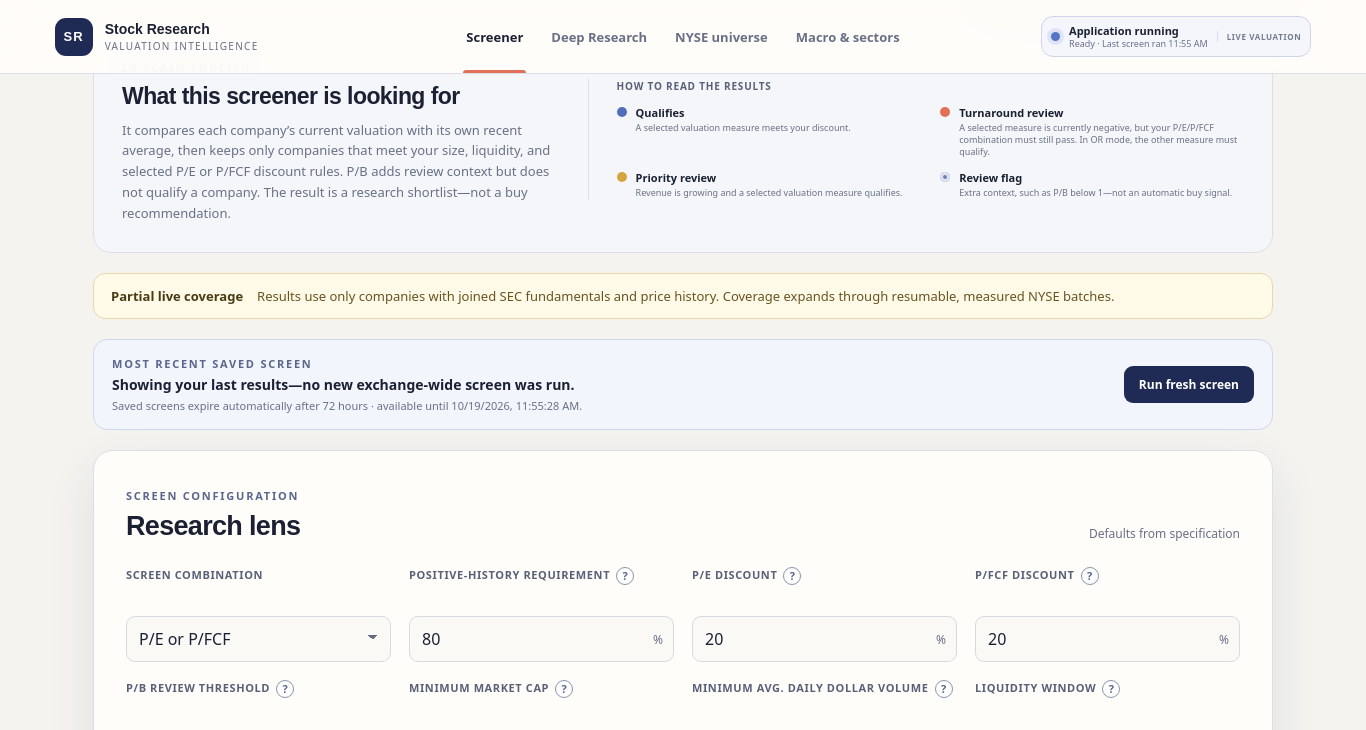
Test: stock research dashboard › restores the latest saved screen without rerunning and can explicitly refresh it
The width and height of the screenshot is (1366, 730).
(page scrolled)
Expected: the text "Showing your last results—no new exchange-wide screen was run." is shown, left=112, top=375, right=582, bottom=394
Click the button "Run fresh screen" at coordinates (1189, 384), box left=1124, top=366, right=1254, bottom=403
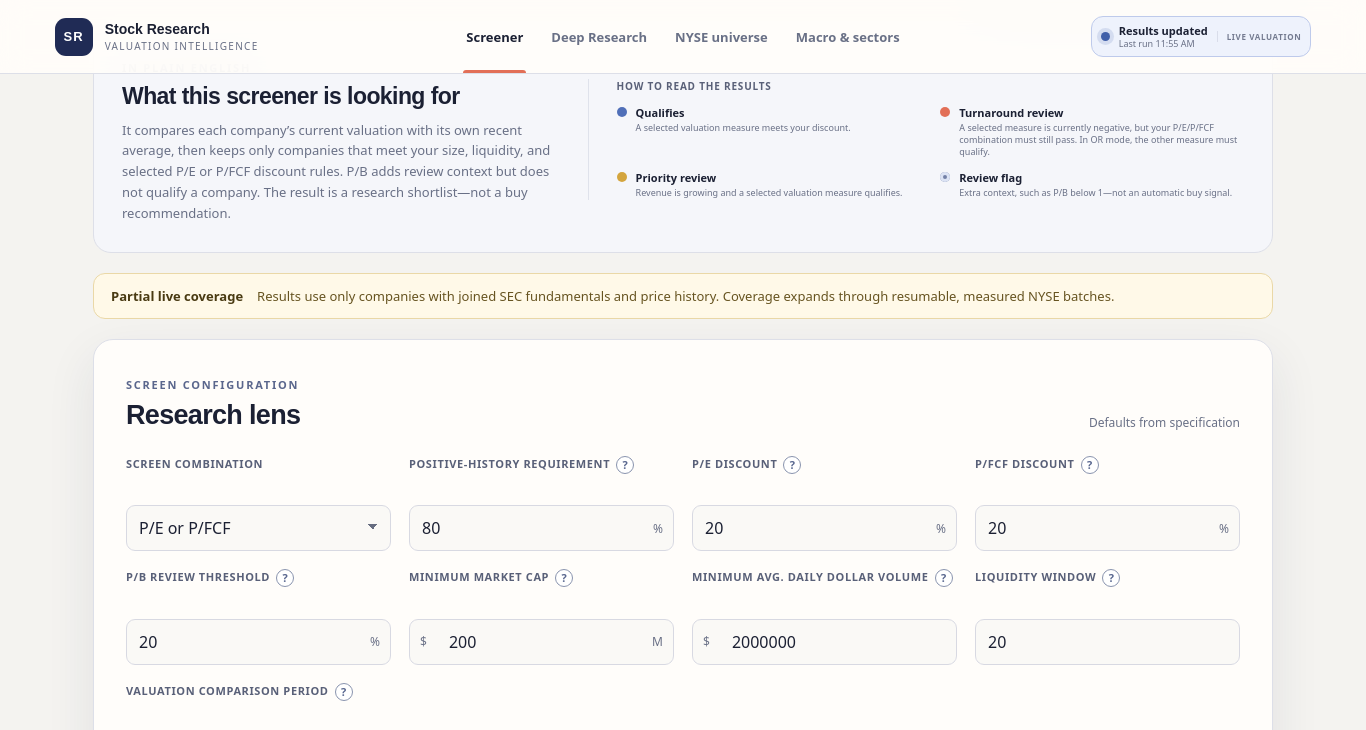
Expected: the text labelled "Most recent saved screen" is gone
